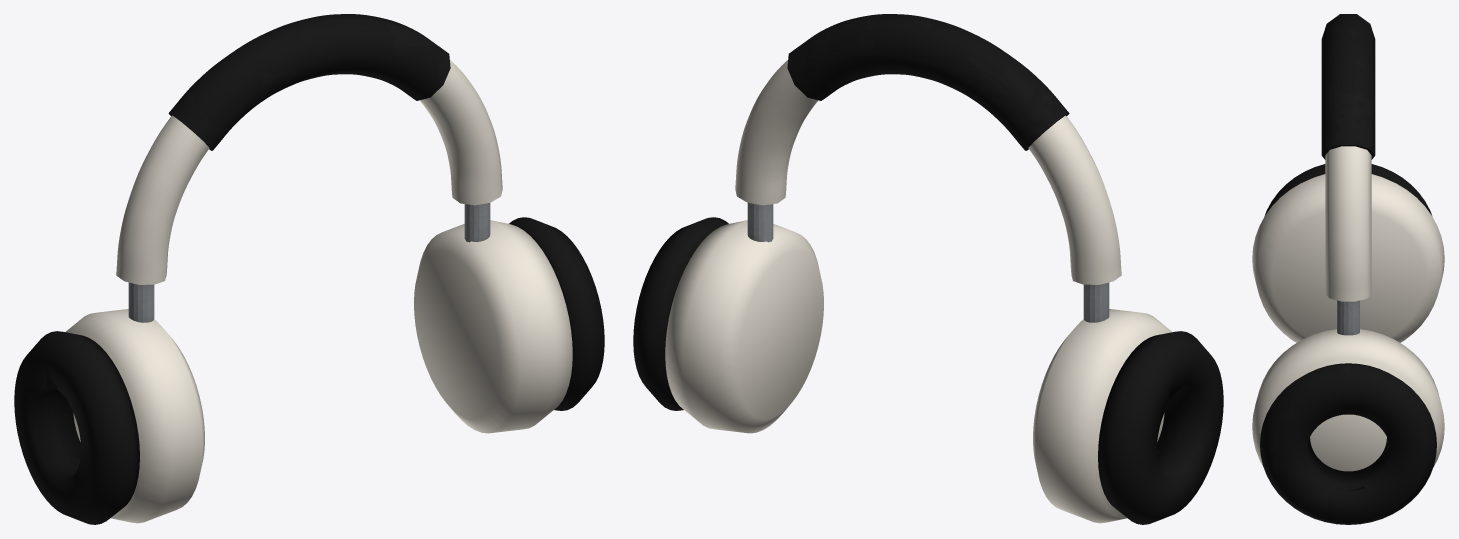
Rendered from cream.glb.
The picture shows the model from 3 angles, left to right: view 1: azimuth 30°, elevation 25°; view 2: azimuth 150°, elevation 25°; view 3: azimuth 270°, elevation 25°; orthographic projection. The views are drawn at different scales.
Parts seen in each view (by area): view 1: plastic_primary, leather_cushion, aluminium; view 2: plastic_primary, leather_cushion, aluminium; view 3: plastic_primary, leather_cushion, aluminium.
Part boxes in pixels (left/top/right/bottom): plastic_primary: left=65, top=60, right=572, bottom=523; leather_cushion: left=14, top=14, right=604, bottom=524; aluminium: left=128, top=203, right=490, bottom=322; plastic_primary: left=665, top=60, right=1172, bottom=523; leather_cushion: left=633, top=14, right=1223, bottom=524; aluminium: left=747, top=203, right=1109, bottom=322; plastic_primary: left=1252, top=146, right=1444, bottom=471; leather_cushion: left=1260, top=14, right=1436, bottom=524; aluminium: left=1337, top=300, right=1359, bottom=335.
Bounding box in the file's own units: 0.27 × 0.2283 × 0.1.
Materials: 3 (2 with a texture image).
